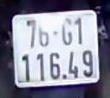1: (20, 52, 31, 83), (35, 52, 46, 81), (74, 16, 83, 46)
4: (67, 50, 79, 79)
6: (38, 17, 50, 48), (49, 51, 61, 79)
7: (25, 18, 36, 50)
9: (81, 49, 94, 78)
G: (61, 18, 74, 47)
